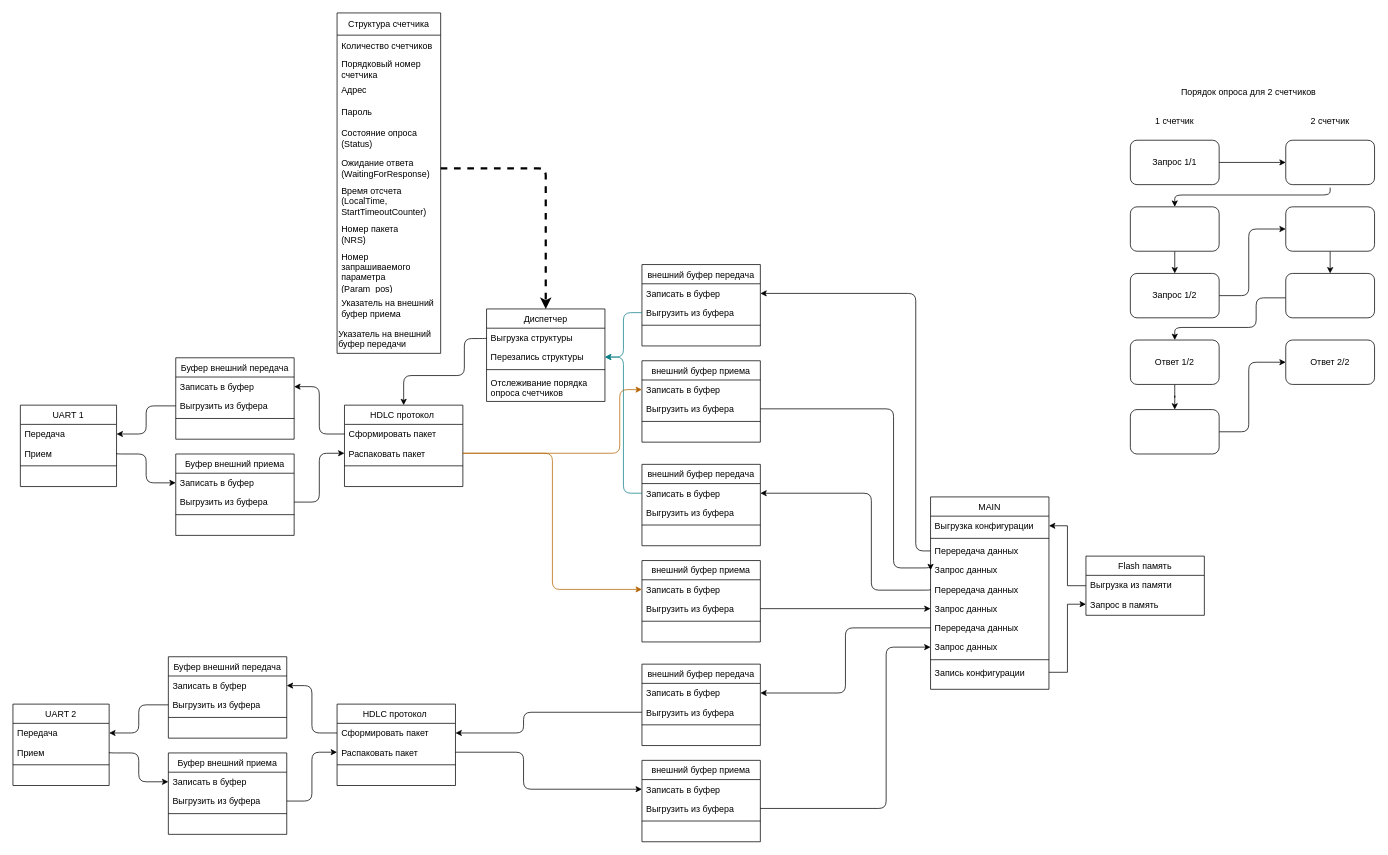
The diagram is 1388 pixels wide and 855 high, and some of its shapes have lost their labels. Here are the shapes that lost their labels. From the top down, the centre of each, then its label:
At [1330,162]: "Запрос 2/1".
At [1174,228]: "Ответ 1/1".
At [1330,228]: "Ответ 2/1".
At [1330,295]: "Запрос 2/2".
At [1174,431]: "Запрос 1/3".
